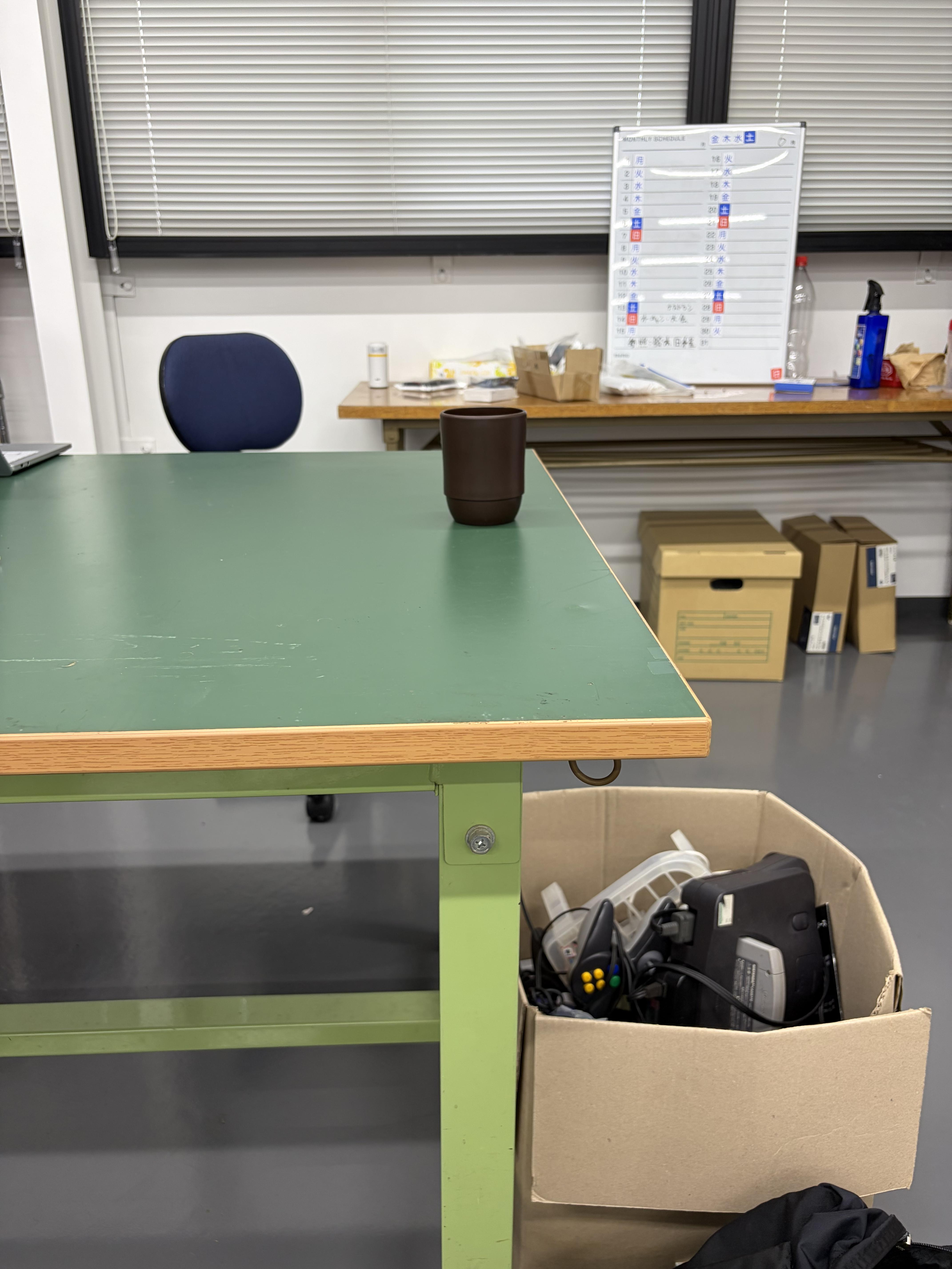mug-real100-3d100: (440, 406, 527, 526)
